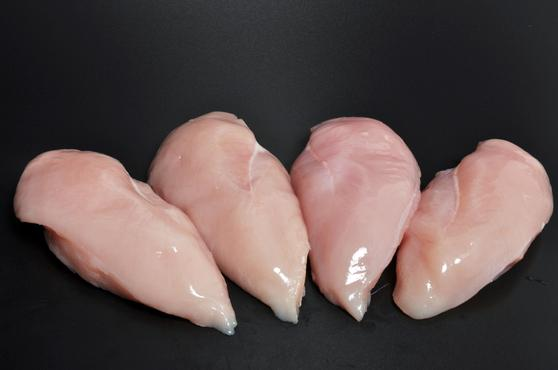chicken_fillet: (15, 146, 238, 332), (147, 111, 317, 327), (400, 127, 553, 311), (292, 111, 418, 324)
